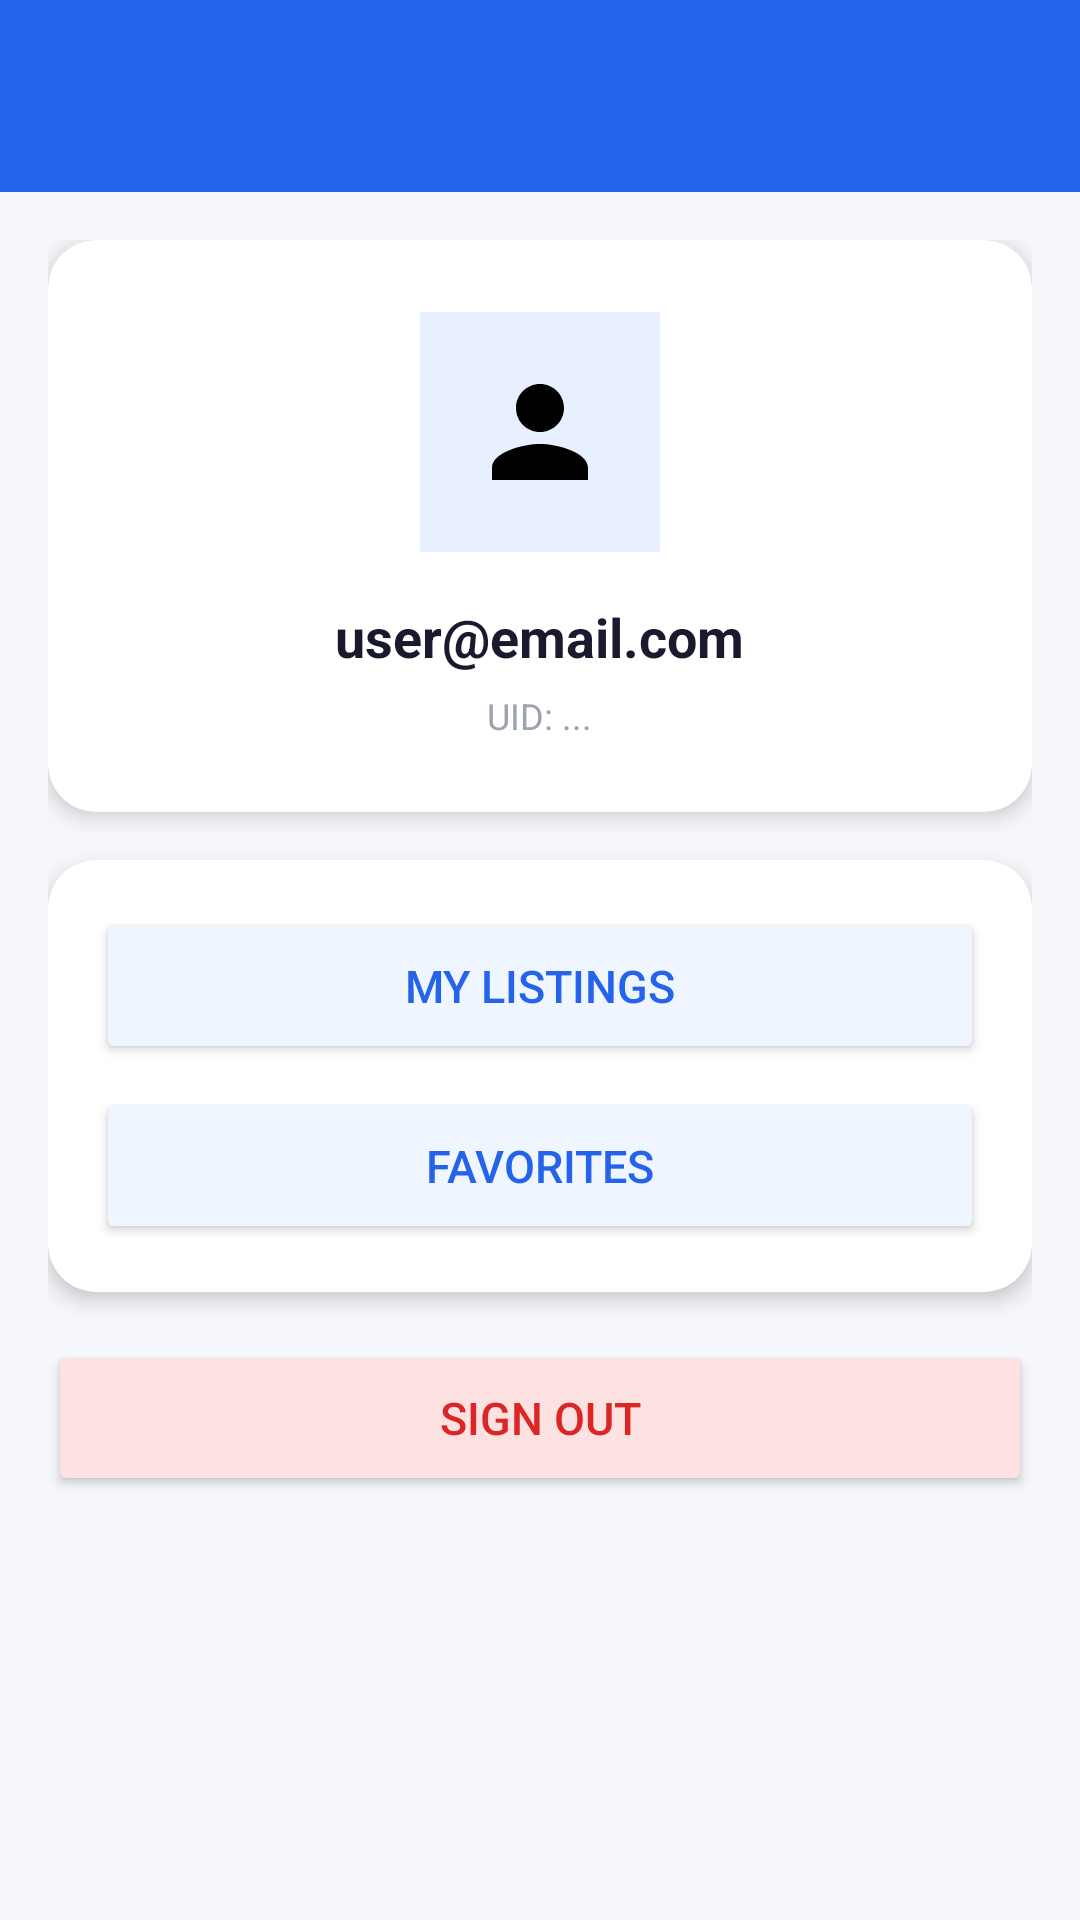

Icon click points for this 1080px×1920px phone screenshot, format (x,y):
person: (540,432)
